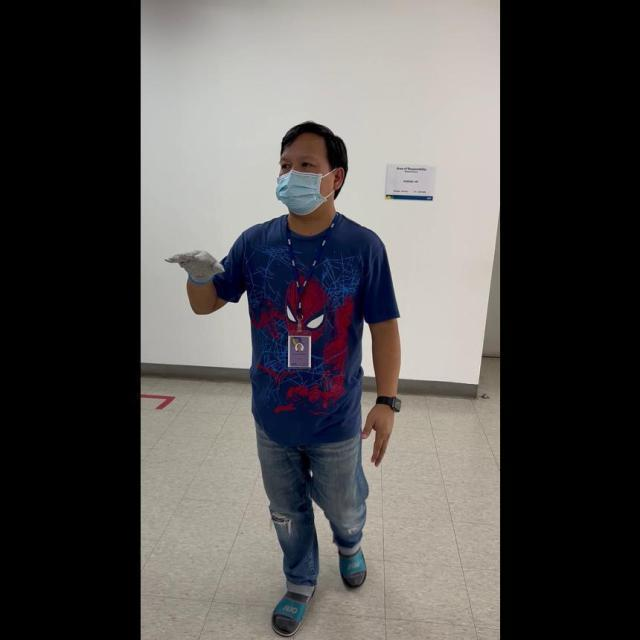bare_hand: (361, 399, 397, 468)
gloved_hand: (164, 243, 229, 287)
